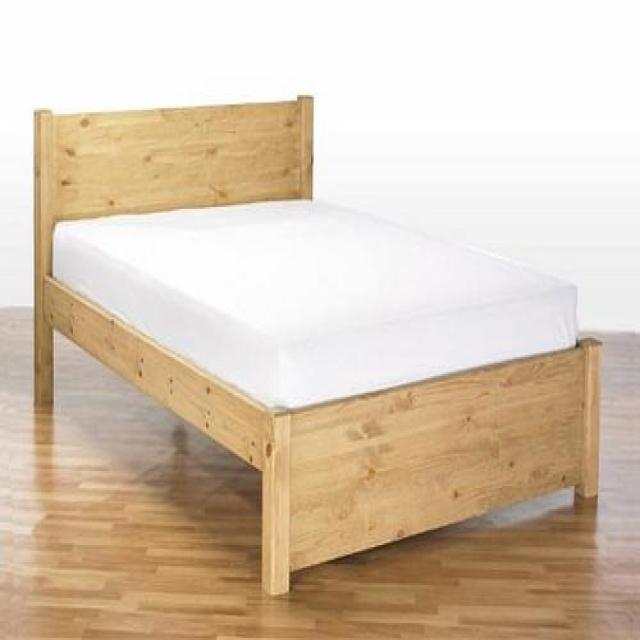bed: (31, 93, 602, 602)
